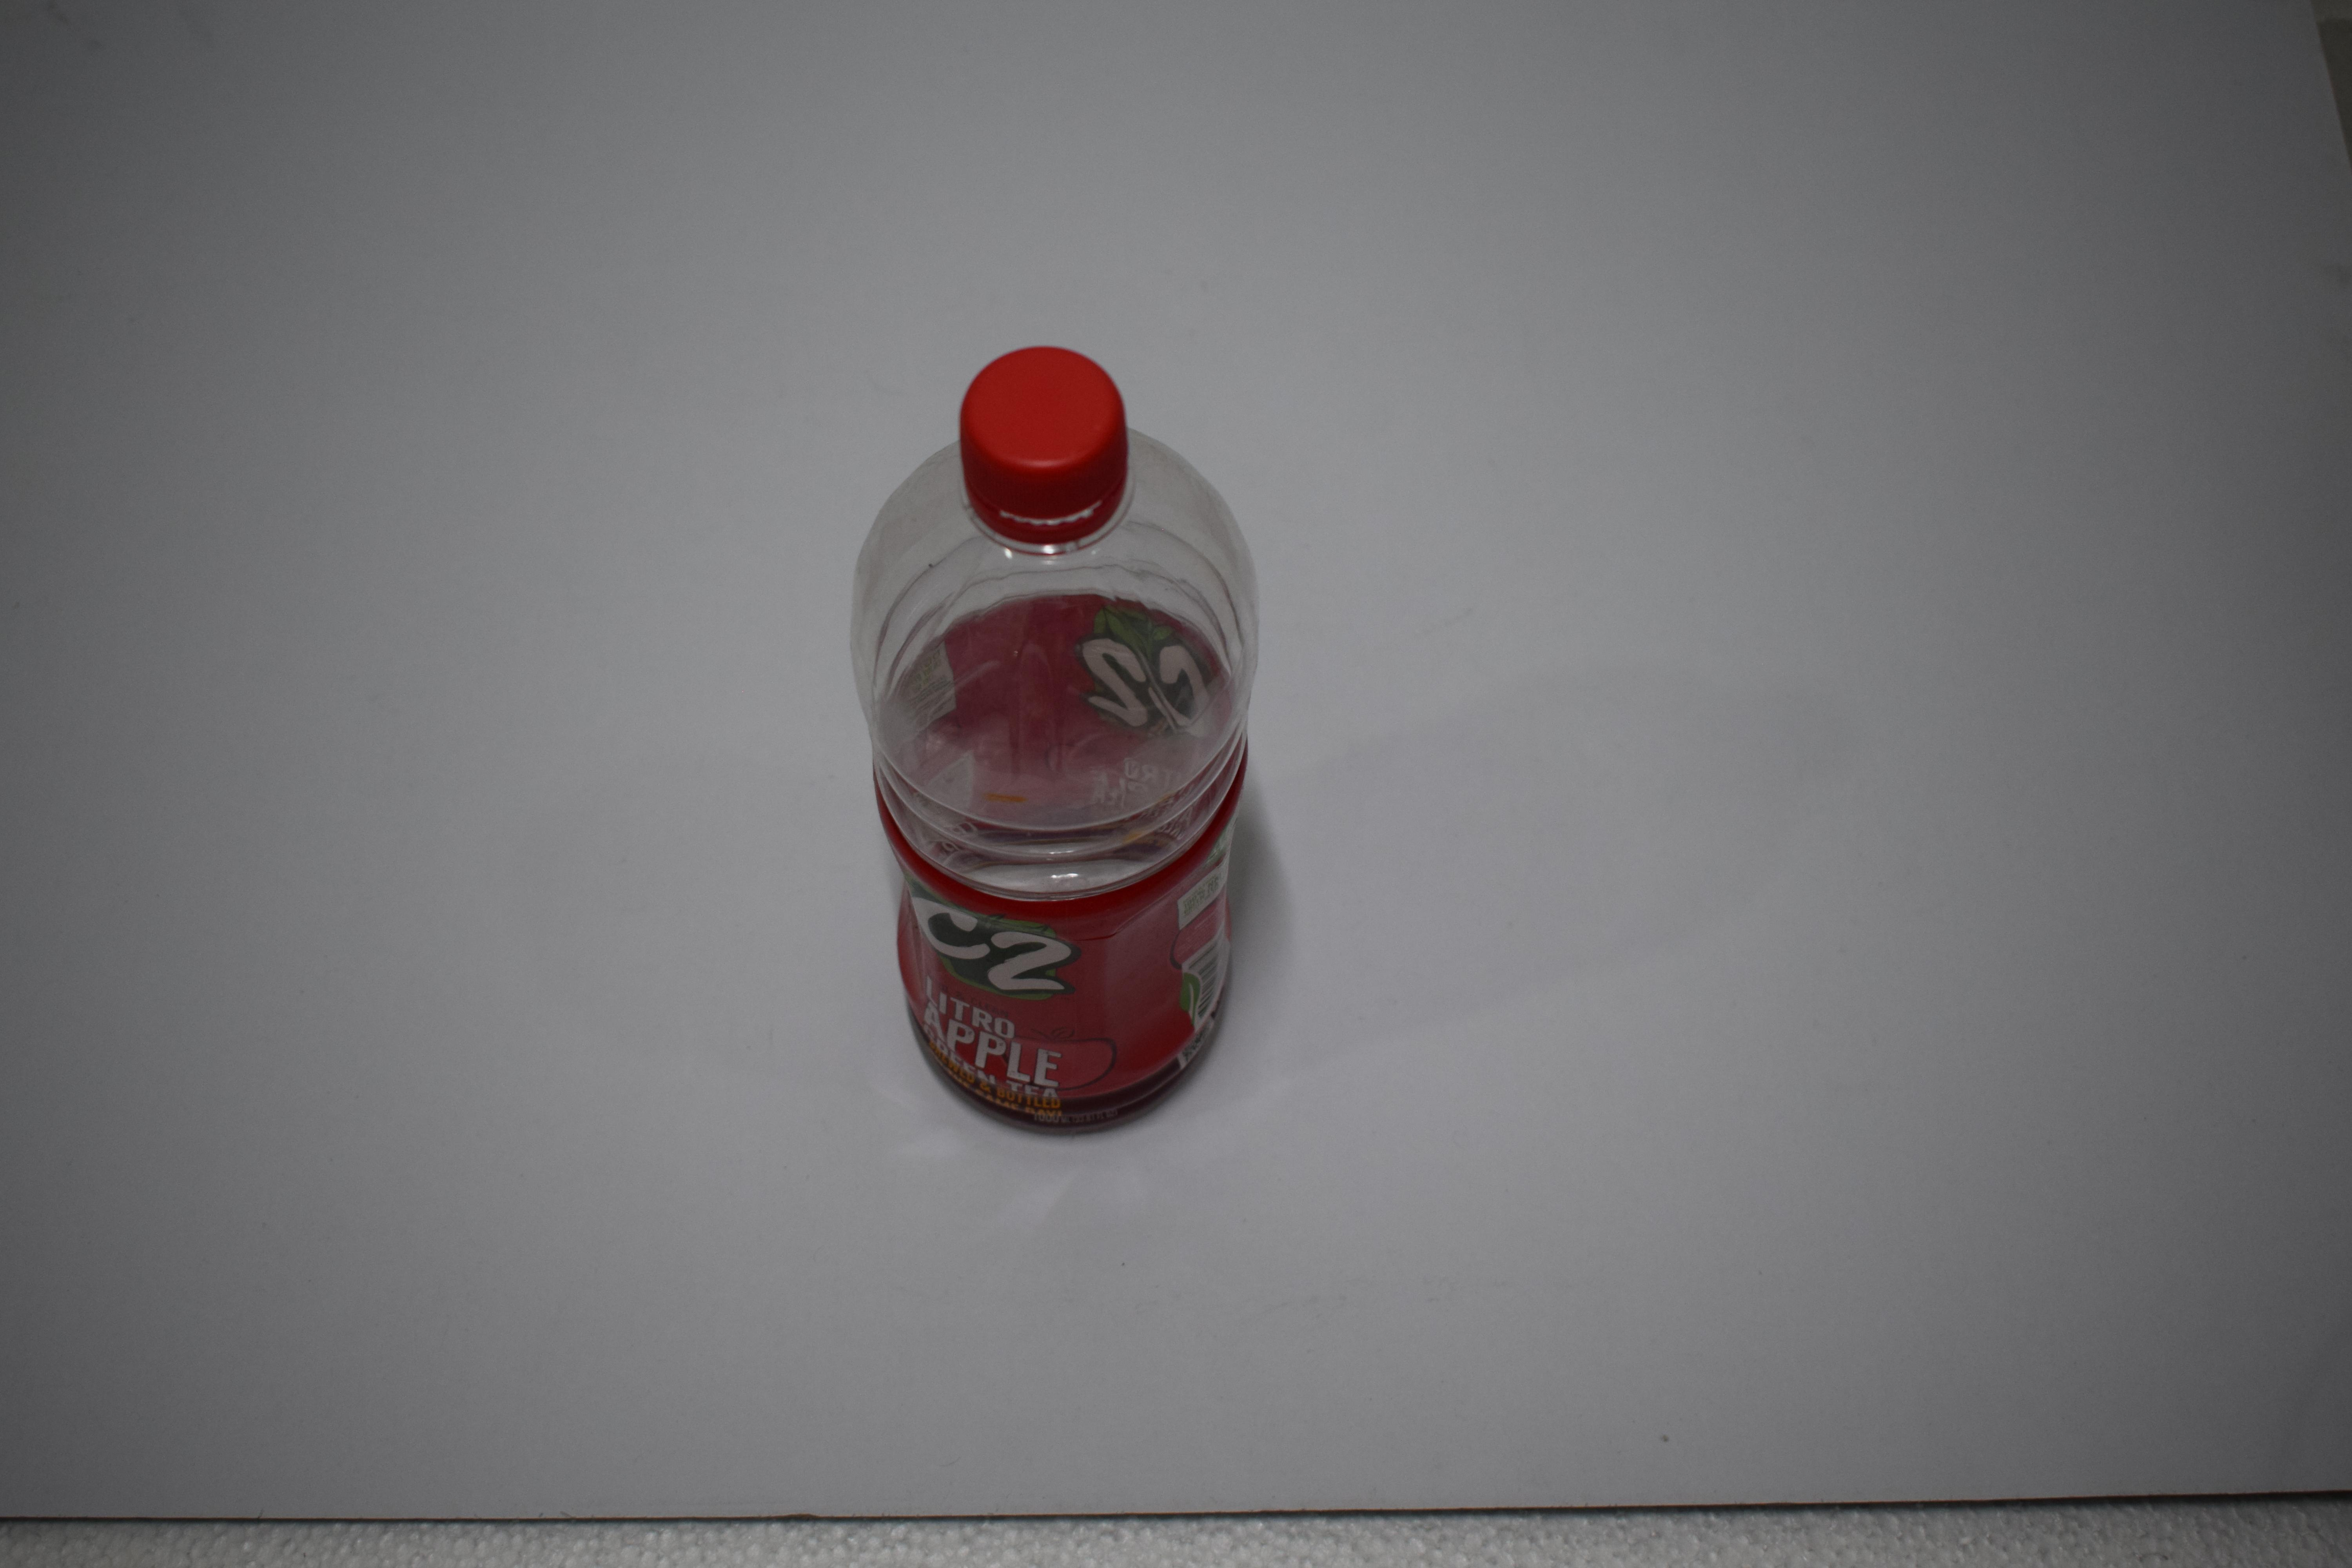bottle: (843, 724, 1267, 740)
